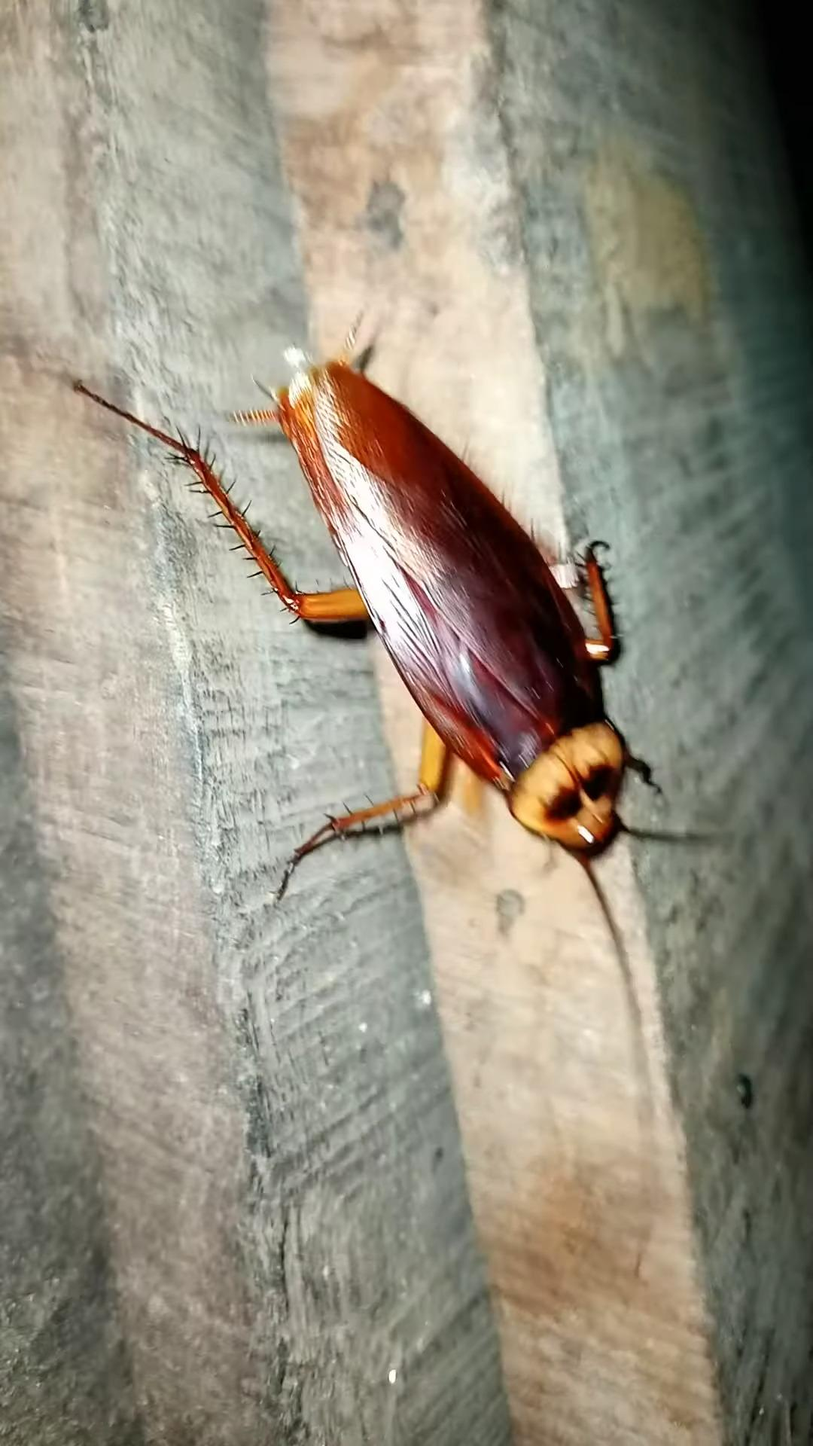cockroach: (27, 272, 652, 1031)
